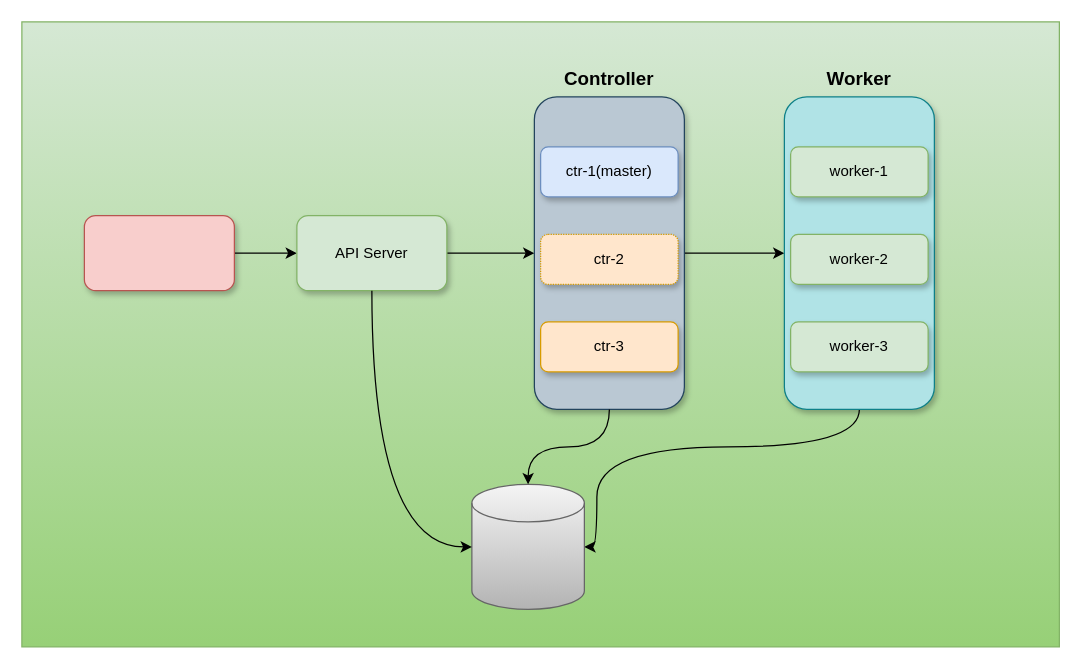
The diagram is 1081 pixels wide and 669 high, and some of its shapes have lost their labels. Each missing label, with the centre of its shape:
Clinet: pixel 160 254
DB: pixel 527 546
